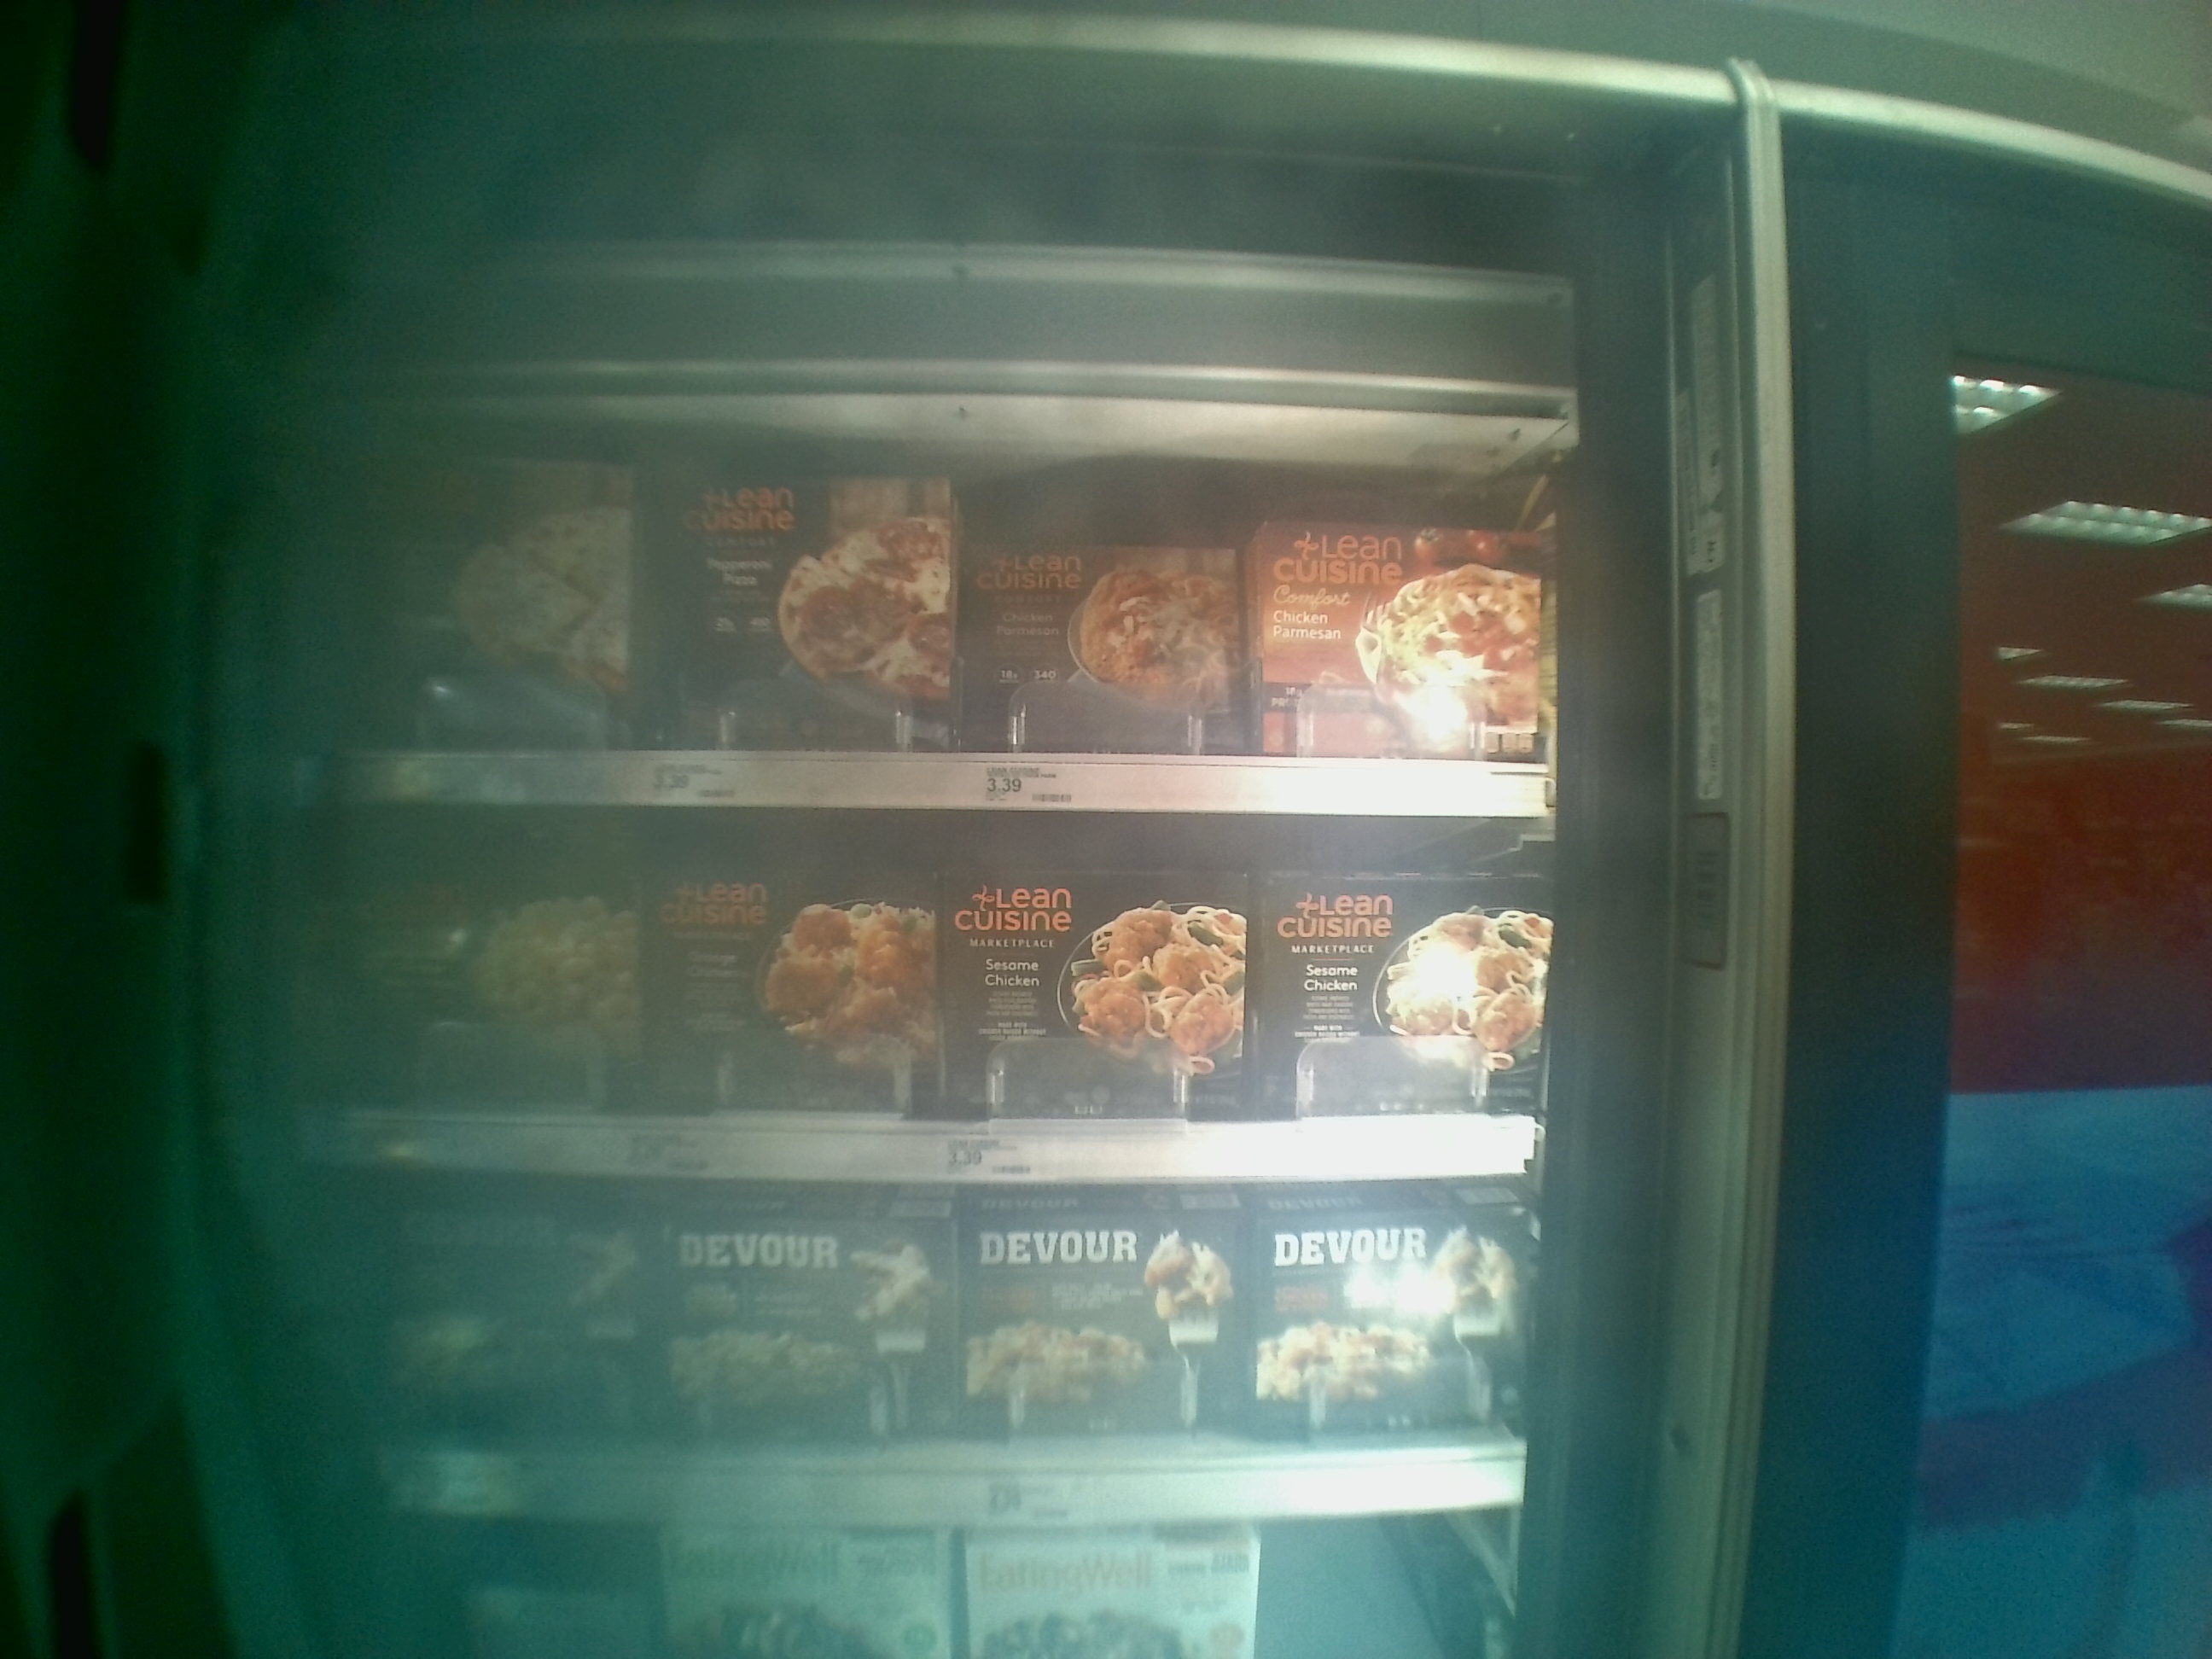shelf: (310, 350, 1557, 803), (305, 788, 1557, 1180), (303, 1171, 1527, 1527)
